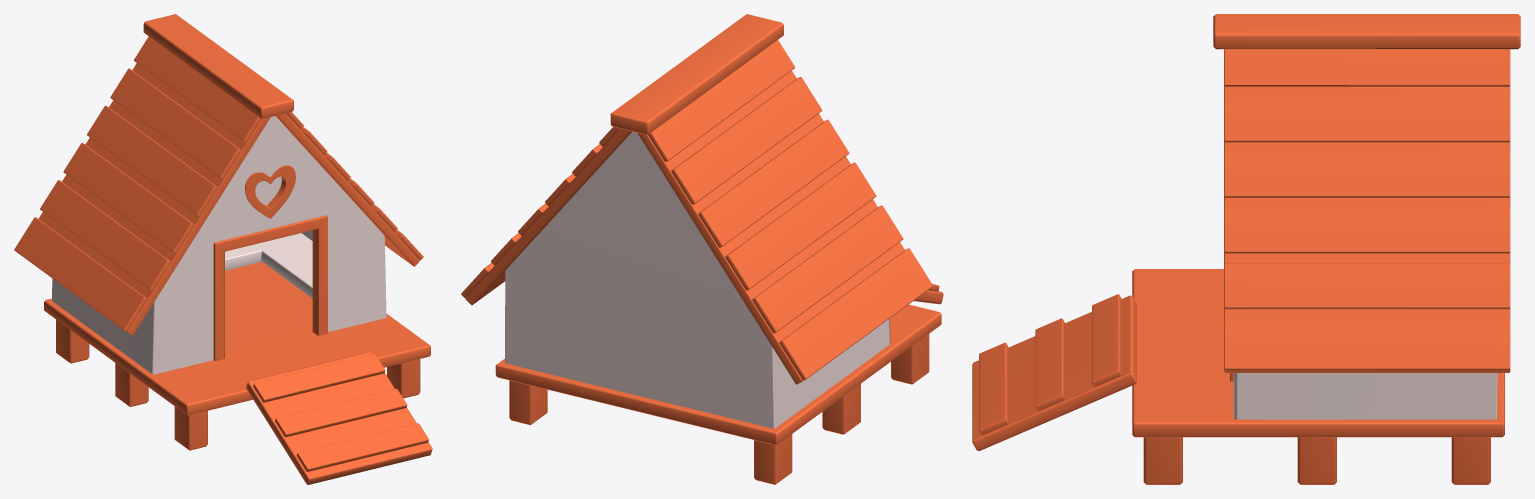
File: Farm_14_Duck_Coop_1.glb
3 views of the same model, side by side, from view 1: azimuth 30°, elevation 25°; view 2: azimuth 150°, elevation 25°; view 3: azimuth 270°, elevation 25° (orthographic). The views are drawn at different scales.
Parts seen in each view (by area): view 1: Farm_14_Duck_Coop_1; view 2: Farm_14_Duck_Coop_1; view 3: Farm_14_Duck_Coop_1.
Part boxes in pixels (x1,y1,x2,y2): Farm_14_Duck_Coop_1: [14, 14, 432, 484]; Farm_14_Duck_Coop_1: [461, 14, 943, 484]; Farm_14_Duck_Coop_1: [972, 14, 1520, 484].
Bounding box in the file's own units: 2.66 × 2.55 × 3.25.
1 material, 1 textured.
